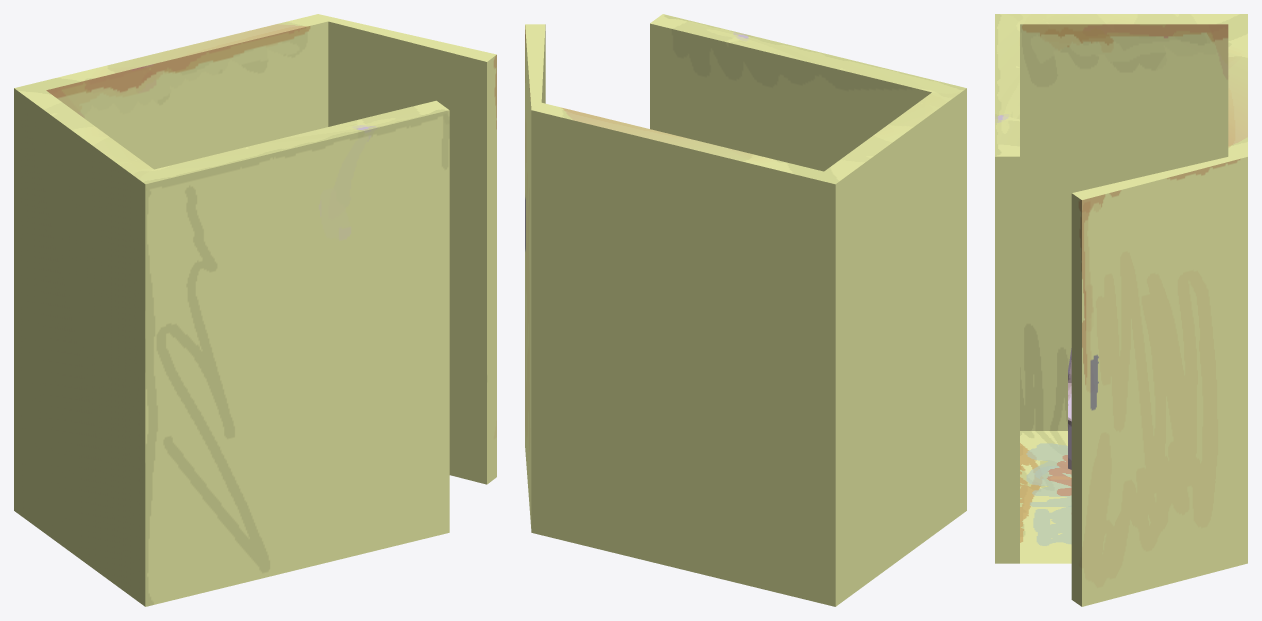
File: toilet.obj
The picture shows the model from 3 angles, left to right: view 1: azimuth 30°, elevation 25°; view 2: azimuth 150°, elevation 25°; view 3: azimuth 270°, elevation 25°; orthographic projection. The views are drawn at different scales.
Parts seen in each view (by area): view 1: Cube.001; view 2: Cube.001; view 3: Cube.001, Cube.
Part boxes in pixels (<box>): Cube.001: <box>14,14,496,606</box>; Cube.001: <box>525,14,966,606</box>; Cube.001: <box>995,14,1247,606</box>; Cube: <box>1068,348,1071,469</box>.
Bounding box in the file's own units: 12.91 × 13.2 × 7.41.
